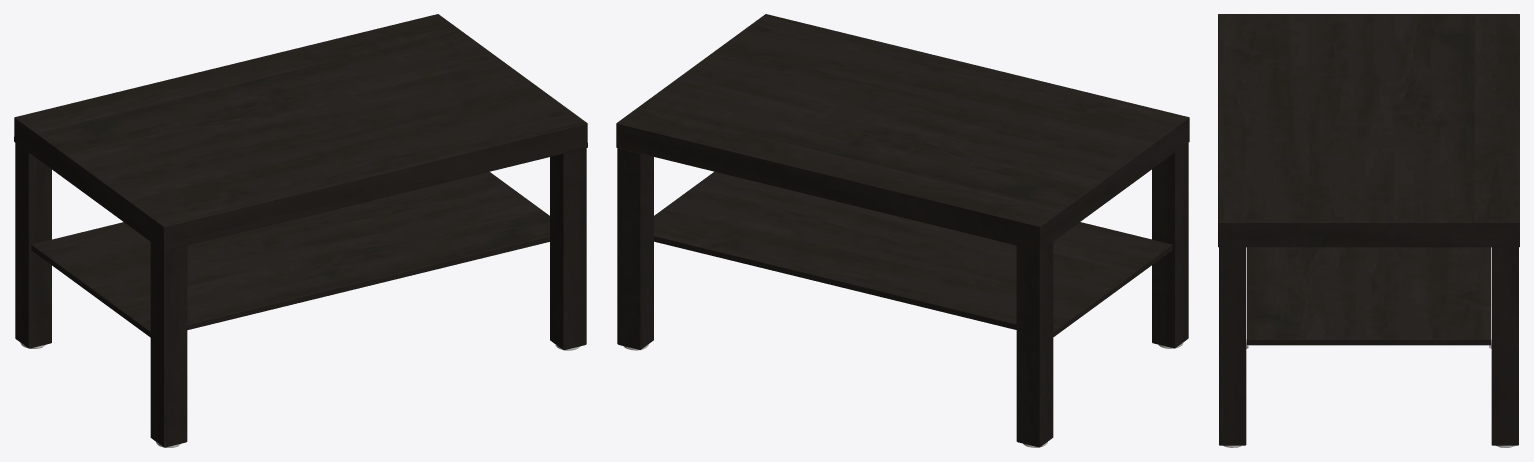
The picture shows the model from 3 angles, left to right: view 1: azimuth 30°, elevation 25°; view 2: azimuth 150°, elevation 25°; view 3: azimuth 270°, elevation 25°; orthographic projection.
Parts seen in each view (by area): view 1: model; view 2: model; view 3: model.
Boxes of the visible parts, left/top/right/bottom form: model: left=14, top=14, right=587, bottom=447; model: left=616, top=14, right=1189, bottom=447; model: left=1218, top=14, right=1519, bottom=447.
Size of the model in its own units: 0.9 by 0.4553 by 0.55.
Materials: 1 (1 with a texture image).
